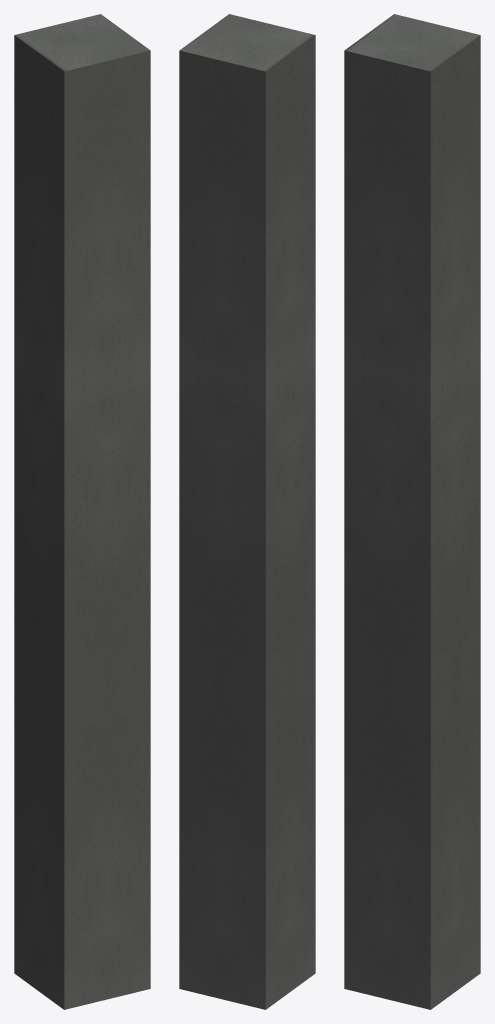
The model's file is betonsaeule3.fbx.
The picture shows the model from 3 angles, left to right: view 1: azimuth 30°, elevation 25°; view 2: azimuth 150°, elevation 25°; view 3: azimuth 330°, elevation 25°; orthographic projection.
Parts seen in each view (by area): view 1: betonsaeule3; view 2: betonsaeule3; view 3: betonsaeule3.
Part boxes in pixels (x1=…): betonsaeule3: x1=14, y1=14, x2=150, y2=1009; betonsaeule3: x1=179, y1=14, x2=315, y2=1009; betonsaeule3: x1=344, y1=14, x2=480, y2=1009.
Size of the model in its own units: 200 by 2077 by 200.
